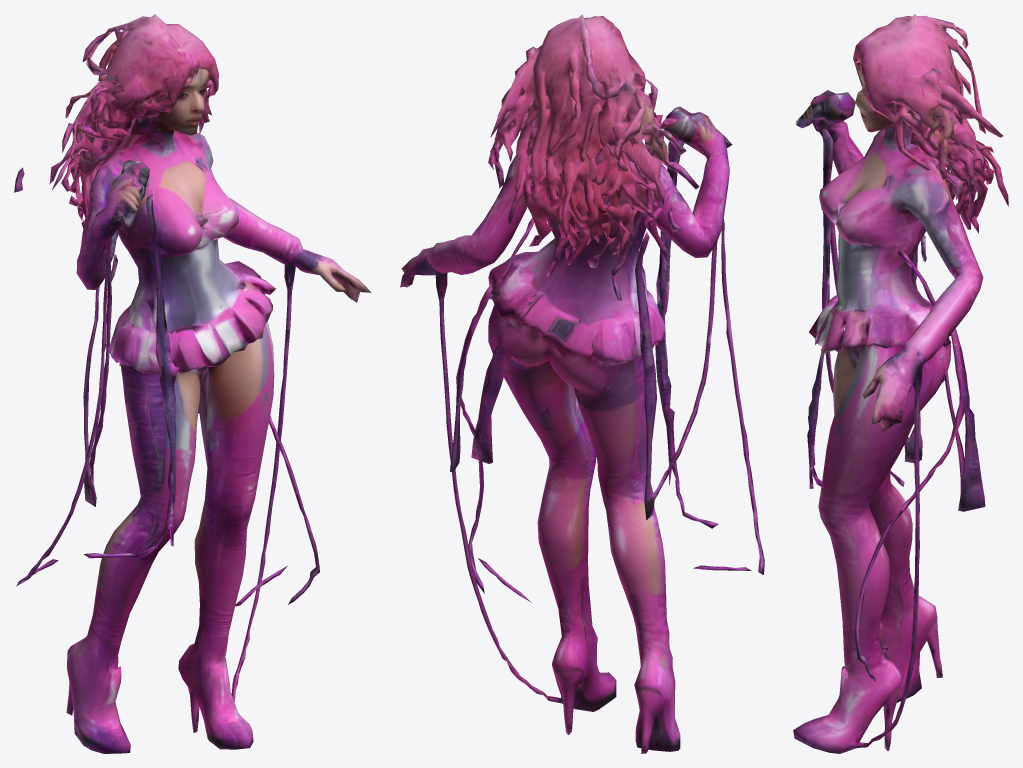
Rendered from A_futuristic_female_p_0416133929_texture.glb.
3 renders of one model, left to right at view 1: azimuth 30°, elevation 25°; view 2: azimuth 150°, elevation 25°; view 3: azimuth 270°, elevation 25°, orthographic. The views are drawn at different scales.
Bounding box in the file's own units: 1.04 × 2.03 × 0.5467.
Materials: 1 (1 with a texture image).
